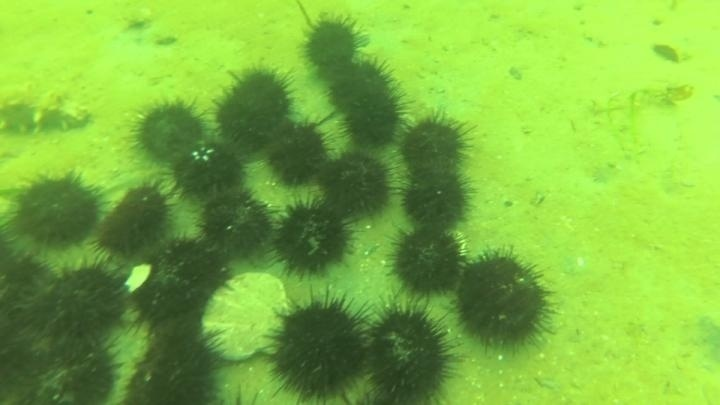echinus: (263, 289, 376, 402), (451, 246, 557, 354), (122, 233, 231, 333), (360, 300, 459, 404), (19, 259, 130, 351), (6, 327, 124, 405), (9, 168, 106, 252), (126, 329, 226, 405), (211, 63, 298, 150), (268, 197, 357, 280), (92, 181, 175, 262), (386, 224, 468, 300), (314, 148, 397, 221), (196, 186, 275, 260), (129, 95, 208, 165), (397, 110, 475, 177), (168, 137, 248, 201), (261, 118, 333, 188), (399, 168, 474, 232), (331, 56, 405, 119), (299, 13, 369, 75), (1, 246, 58, 314), (346, 101, 406, 144)
holothurian: (1, 79, 94, 138)
scallop: (196, 270, 292, 367), (239, 154, 325, 226)
